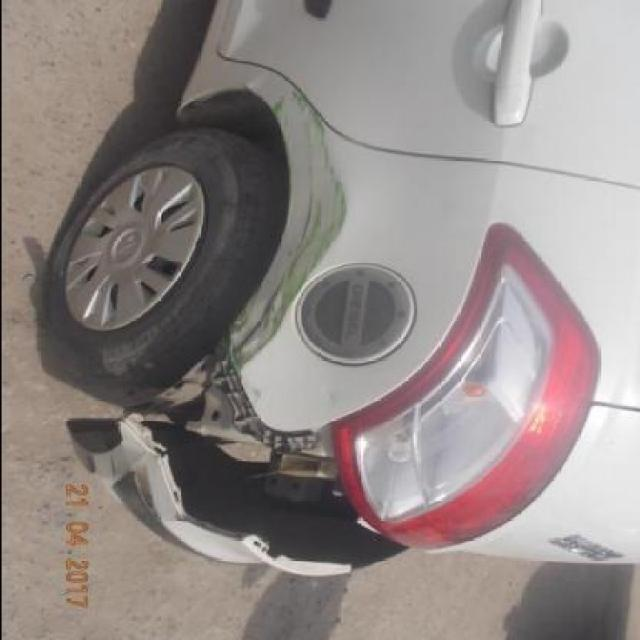damage: (123, 331, 413, 575), (225, 88, 346, 370)
